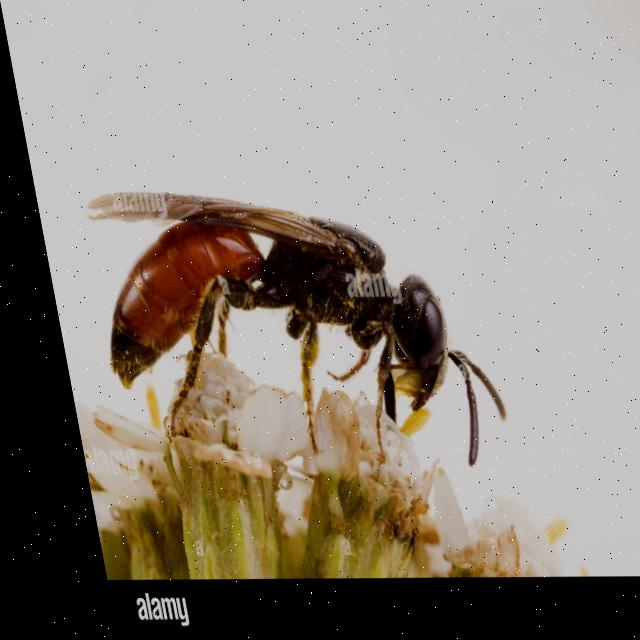Allodapula: (66, 172, 515, 497)
